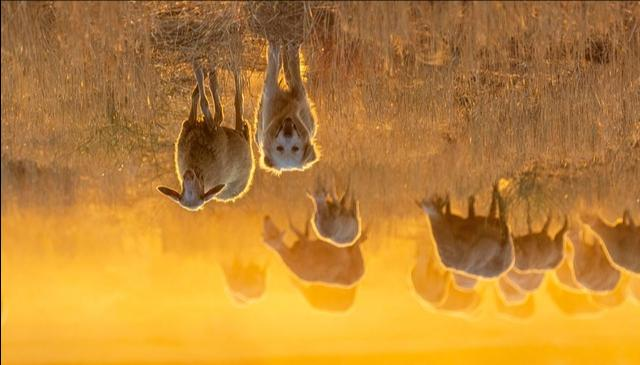Non_Gorille: (103, 12, 630, 340)
